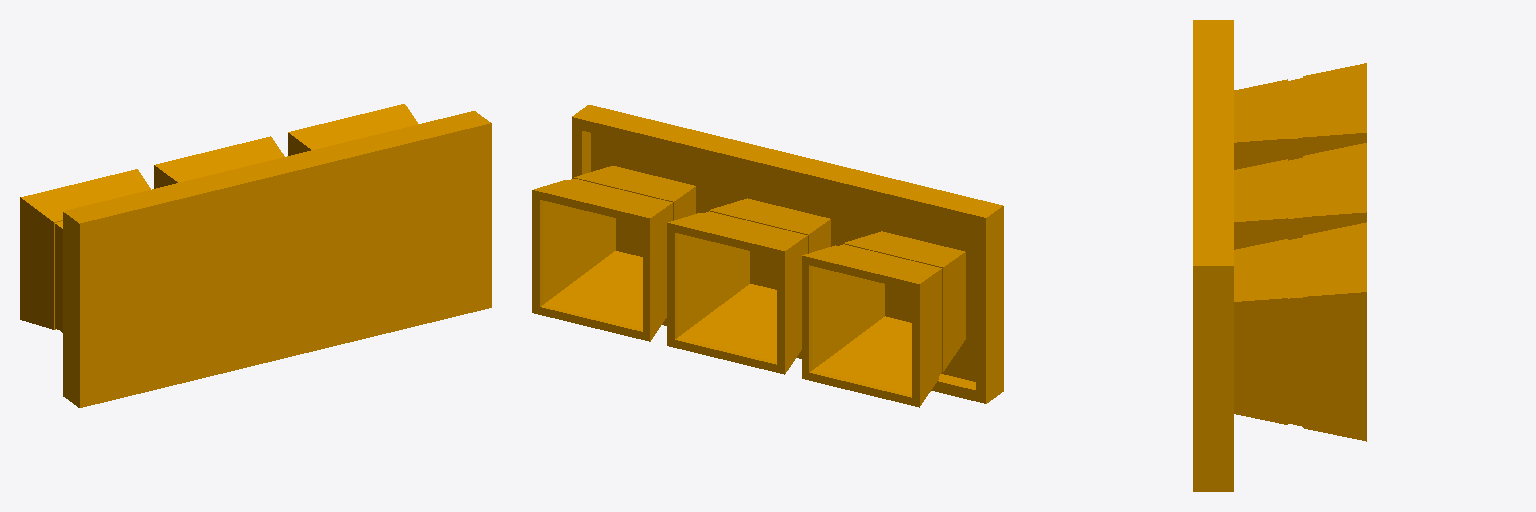
URDF robot description (box):
<?xml version="1.0" ?>
<robot name="box" >
  <link name="box">
    <inertial>
      <origin rpy="0 0 0" xyz="0 0 0"/>
       <mass value="4"/>
       <inertia ixx="0.1" ixy="0" ixz="0" iyy="0.1" iyz="0" izz="0.1"/>
    </inertial>
    <visual>
      <geometry>
        <mesh filename="box.obj" />
      </geometry>
    </visual>
    <collision>
      <geometry>
        <mesh filename="3d-model.dae"/>
      </geometry>
    </collision>
  </link>
</robot>

--- What the picture shows (computed from the rendered views, not written in the file) ---
3 views of the same robot in one strip: view 1: azimuth 30°, elevation 25°; view 2: azimuth 150°, elevation 25°; view 3: azimuth 270°, elevation 25° (orthographic).
Model box with 1 links and 0 joints (none), rooted at box, posed all joints at 0.
Visible links, largest first — view 1: box; view 2: box; view 3: box.
Link boxes in pixels (bbox=[...]): box: bbox=[20, 104, 491, 407]; box: bbox=[532, 105, 1003, 407]; box: bbox=[1193, 20, 1366, 491].
Bounding box of the posed robot: 280 × 83.89 × 120 m (x, y, z).
Meshes: 1 distinct files referenced, 1 mesh visuals loaded (1 OBJ).